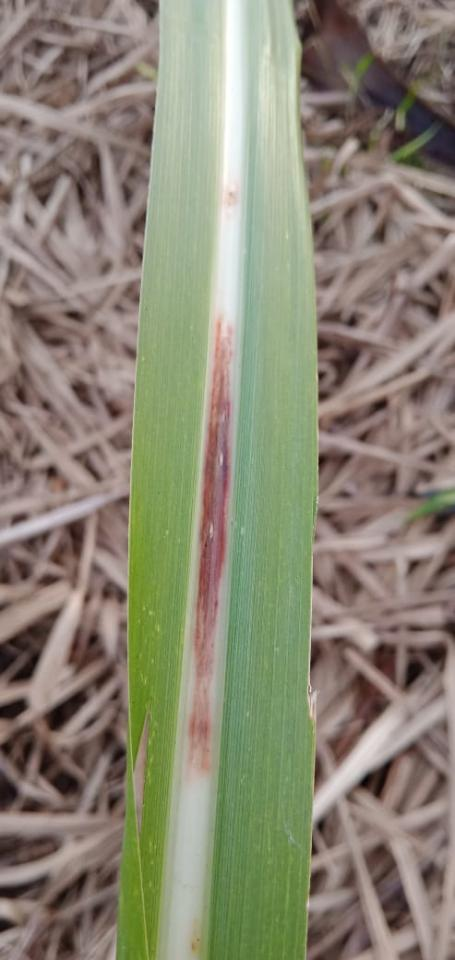RedRot: (187, 305, 235, 773), (221, 185, 241, 207)
